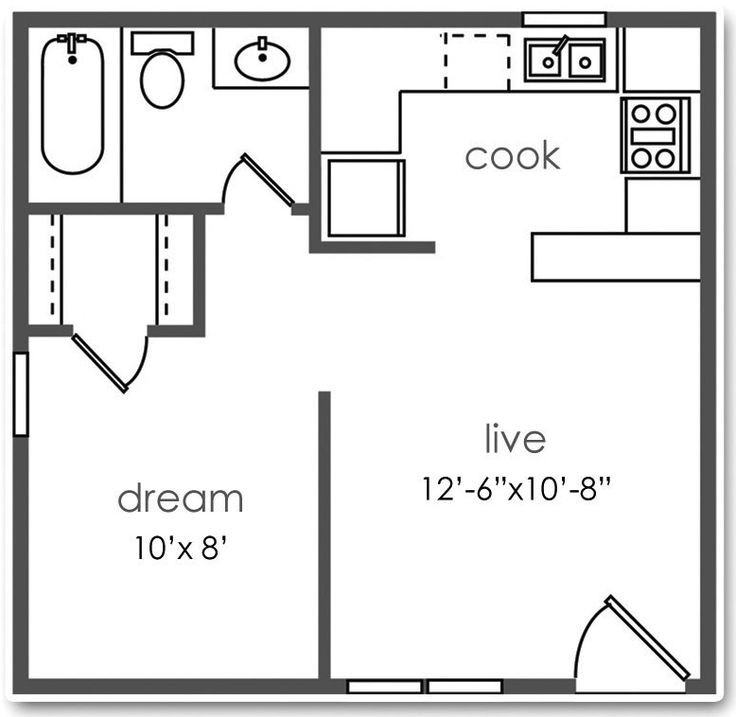door: (568, 588, 694, 697), (73, 321, 154, 393), (214, 148, 292, 215)
room: (1, 22, 336, 700), (314, 249, 716, 686), (304, 36, 712, 284)
wall: (693, 7, 725, 694), (19, 5, 523, 39), (7, 670, 347, 705), (9, 11, 31, 357), (7, 431, 34, 699), (313, 385, 336, 683), (14, 196, 229, 226), (303, 13, 323, 258), (305, 234, 434, 268), (190, 207, 216, 348), (602, 8, 724, 38), (501, 669, 584, 701), (142, 318, 213, 344), (9, 319, 84, 341)
window: (348, 675, 504, 700), (11, 348, 36, 434)
